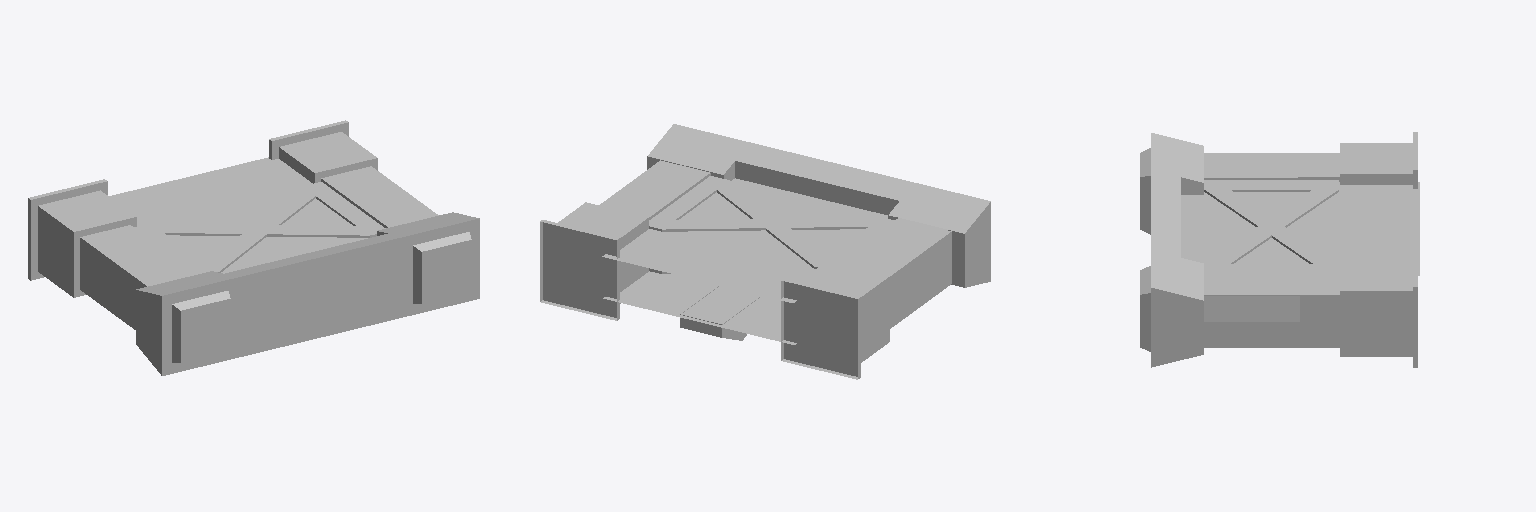
File: juqing_yewai_284_wall_03.obj
3 renders of one model, left to right at view 1: azimuth 30°, elevation 25°; view 2: azimuth 150°, elevation 25°; view 3: azimuth 270°, elevation 25°, orthographic.
Visible parts, largest first — view 1: juqing_yewai_284_wall_03; view 2: juqing_yewai_284_wall_03; view 3: juqing_yewai_284_wall_03.
Boxes of the visible parts, <box> form: juqing_yewai_284_wall_03: <box>28,120,479,375</box>; juqing_yewai_284_wall_03: <box>540,124,990,379</box>; juqing_yewai_284_wall_03: <box>1140,132,1419,367</box>.
Bounding box in the file's own units: 444 × 123 × 339.